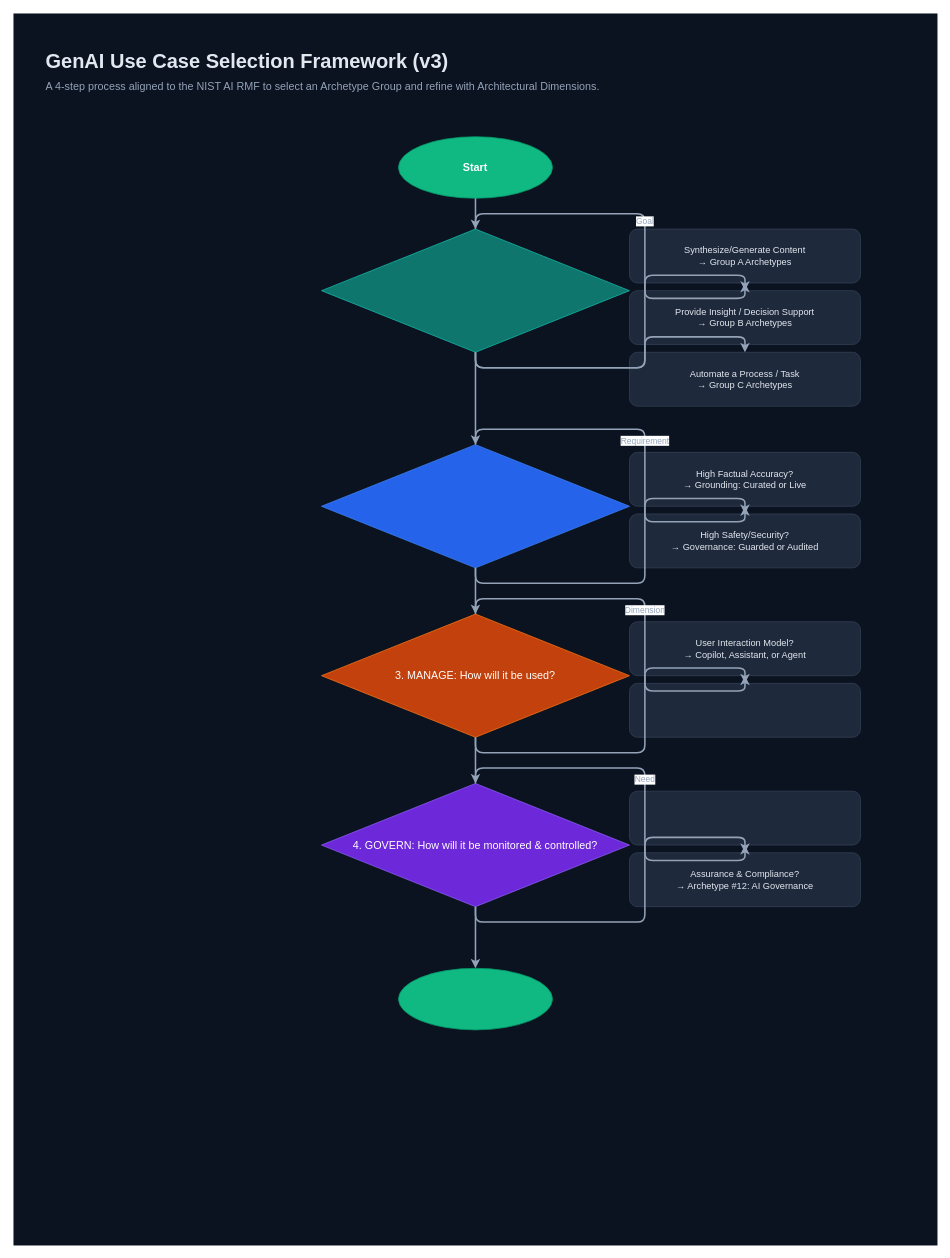
Some shapes in this 950 by 1258 pixel diagram are drawn without their labels. The centre of each missing label's shape, as x and y in pixels:
"1. MAP: What is the primary goal?" belongs at point 475,290.
"2. MEASURE: What are the quality requirements?" belongs at point 475,506.
"Continuous Monitoring? → Archetype #11: Ops & Monitoring" belongs at point 744,817.
"Degree of Automation? → Autonomy: Assistive or Autonomous" belongs at point 744,710.
"Finalize Archetype(s) & Architectural Dimensions" belongs at point 475,999.
